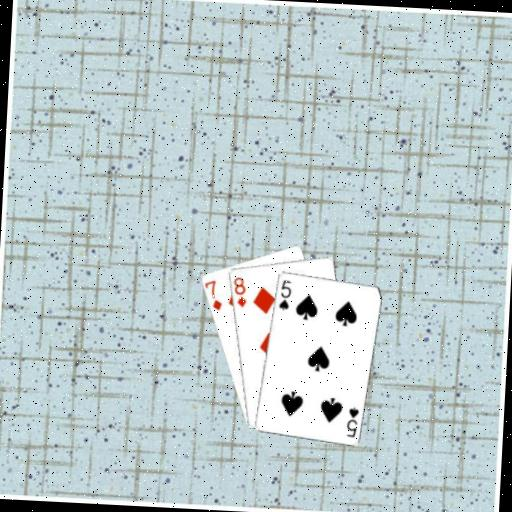5S: (275, 277, 293, 312), (343, 403, 360, 439)
7D: (202, 277, 225, 312)
8D: (229, 273, 249, 309)
